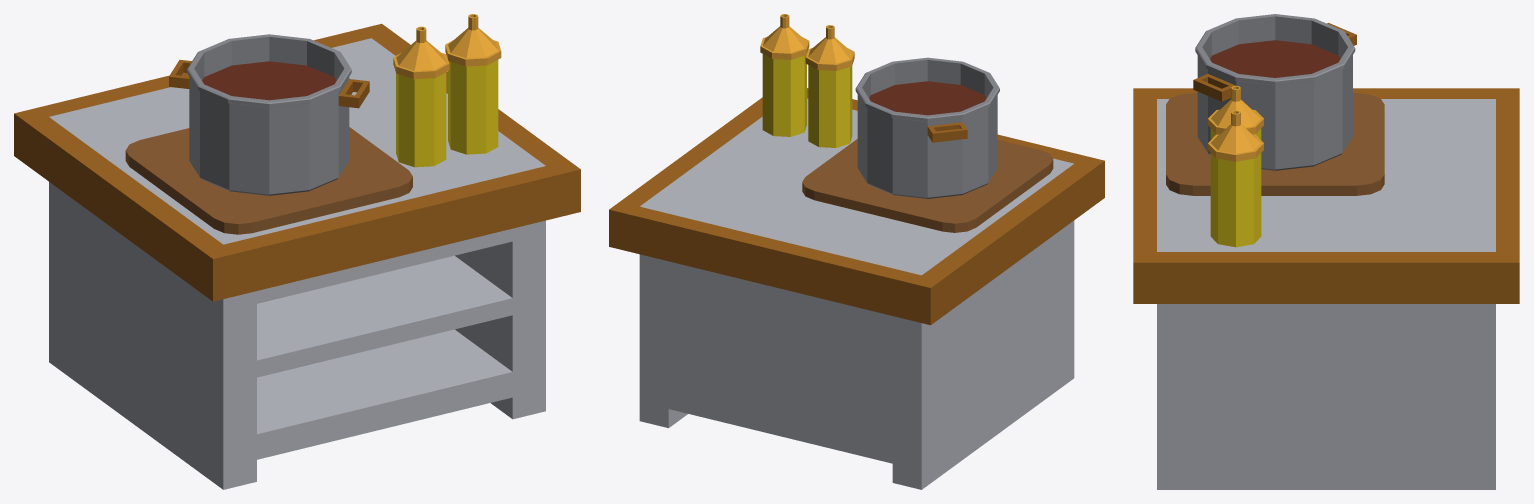
File: chilidog_pot.fbx
3 views of the same model, side by side, from view 1: azimuth 30°, elevation 25°; view 2: azimuth 150°, elevation 25°; view 3: azimuth 270°, elevation 25° (orthographic). The views are drawn at different scales.
Parts seen in each view (by area): view 1: base_top.003, Cylinder, Cube.001, Cylinder.001, Cylinder.002; view 2: base_top.003, Cylinder, Cube.001, Cylinder.002, Cylinder.001; view 3: base_top.003, Cylinder, Cube.001, Cylinder.002, Cylinder.001.
Part boxes in pixels (x1,y1,x2,y2): base_top.003: (14,23,580,489); Cylinder: (169,34,369,195); Cube.001: (125,127,412,234); Cylinder.001: (393,26,449,167); Cylinder.002: (445,14,501,154); base_top.003: (609,88,1104,489); Cylinder: (855,57,999,198); Cube.001: (802,139,1053,232); Cylinder.002: (760,14,809,136); Cylinder.001: (805,25,854,147); base_top.003: (1133,88,1519,489); Cylinder: (1193,14,1356,170); Cube.001: (1166,93,1384,195); Cylinder.002: (1208,110,1263,247); Cylinder.001: (1208,86,1263,139).
Bounding box in the file's own units: 158 × 153 × 148.
